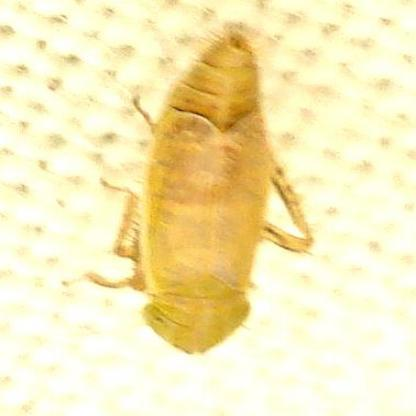green-leafhopper: (119, 30, 316, 358)
